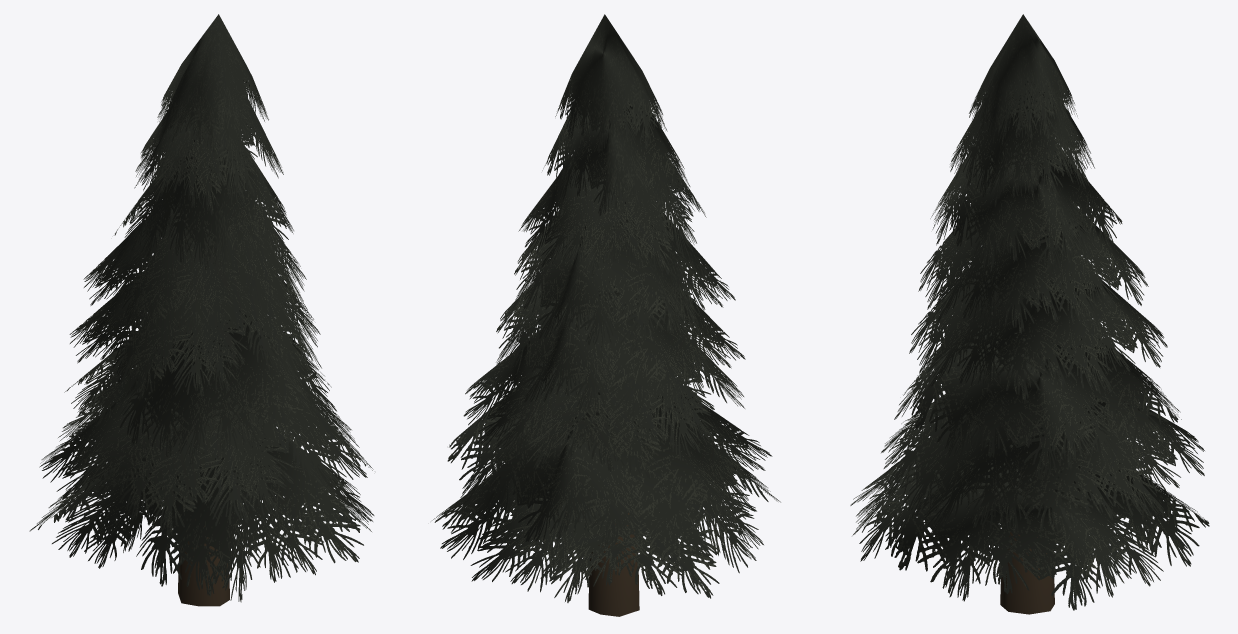
The model's file is Pine_5.fbx.
3 renders of one model, left to right at view 1: azimuth 30°, elevation 25°; view 2: azimuth 150°, elevation 25°; view 3: azimuth 270°, elevation 25°, orthographic. The views are drawn at different scales.
Visible parts, largest first — view 1: Pine_5; view 2: Pine_5; view 3: Pine_5.
Boxes of the visible parts, <box> form: Pine_5: <box>29,14,374,606</box>; Pine_5: <box>432,14,780,616</box>; Pine_5: <box>850,14,1209,614</box>.
Size of the model in its own units: 5.31 by 9.38 by 5.58.
